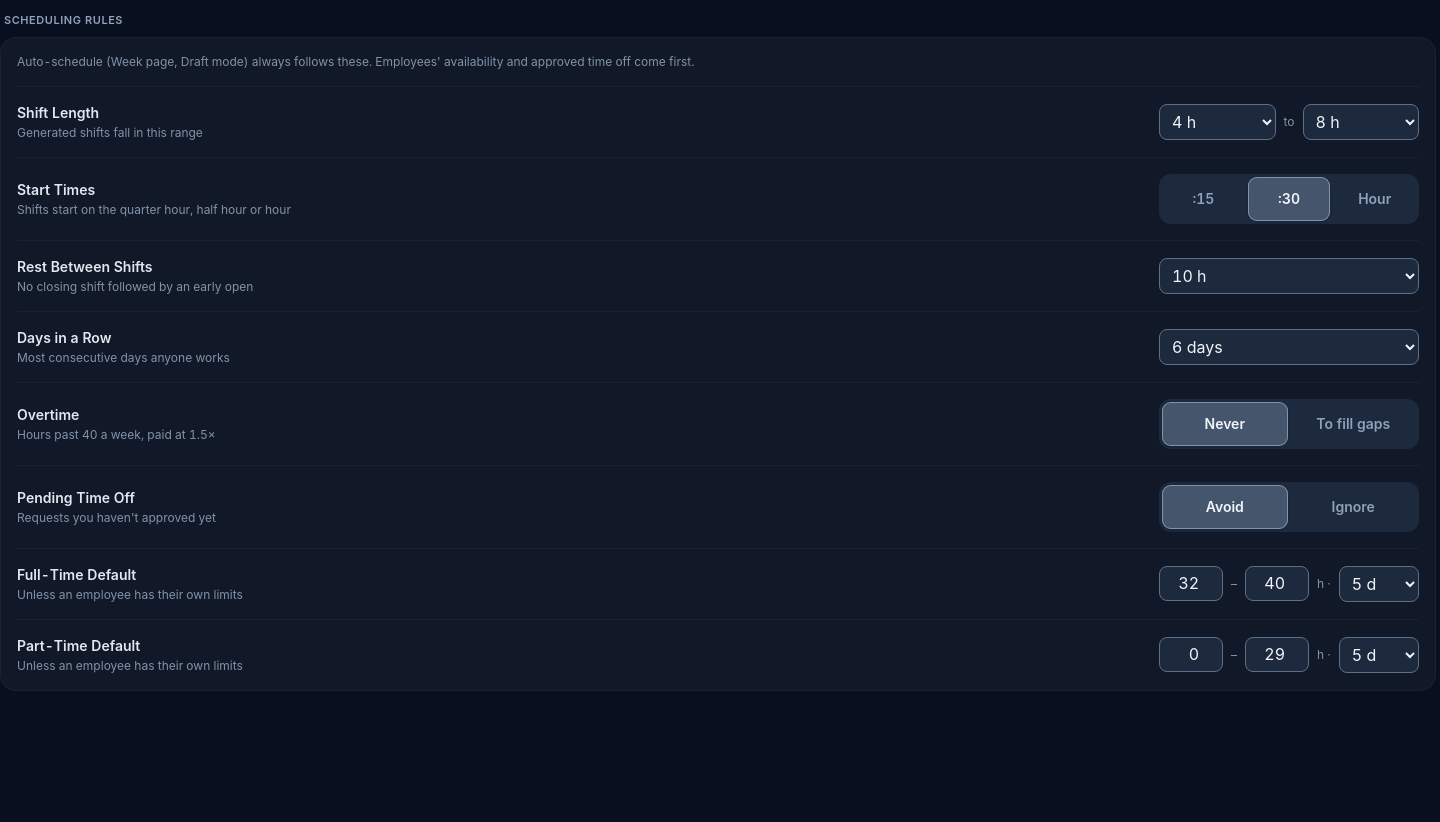
Test: SchedulingRulesSection › saves a changed rule as a patch and reports it
Click the radio button labelled "To fill gaps" at (1353, 424), box [1290,402,1416,446]
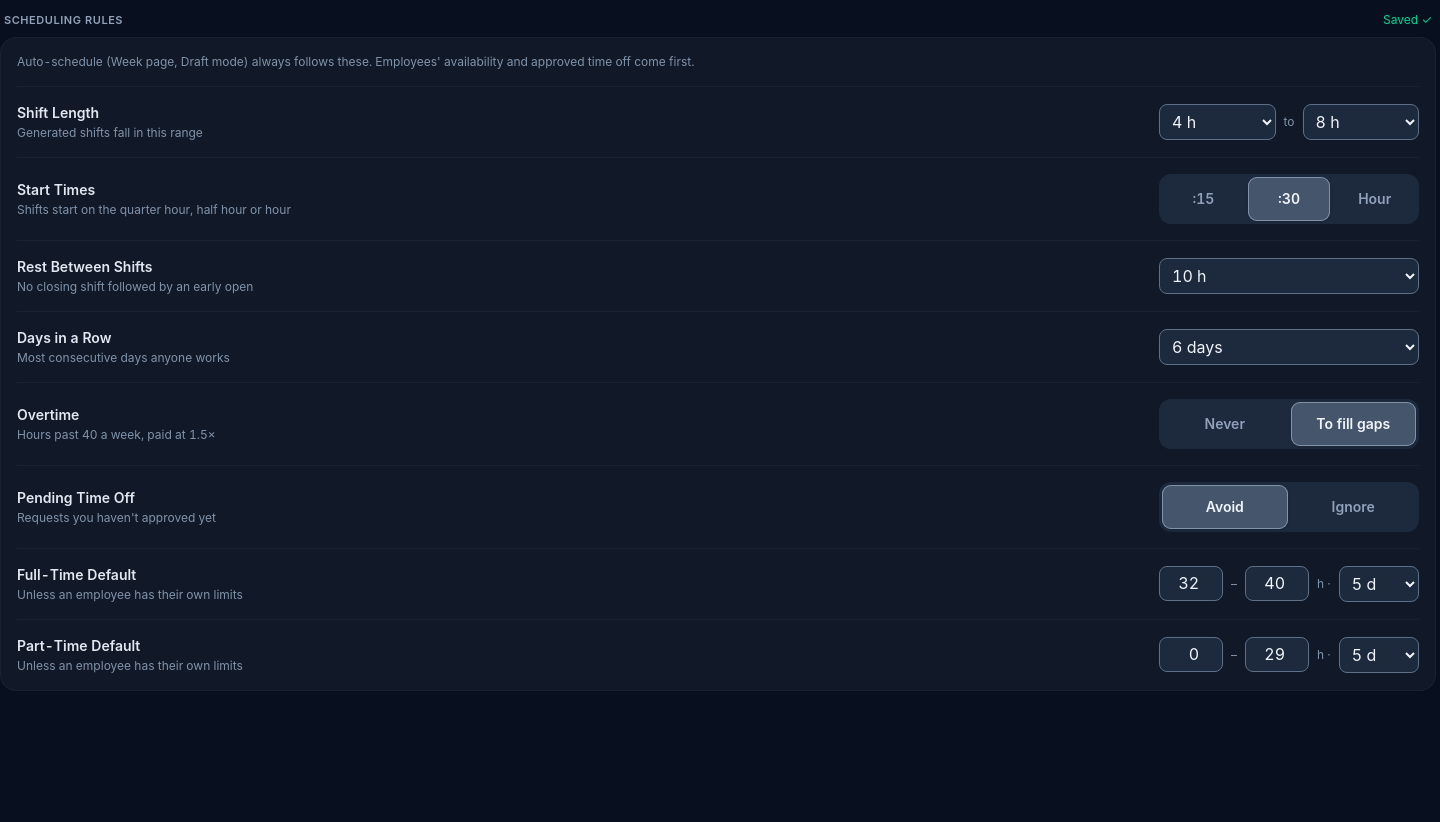
Check: the text "Saved ✓" is shown, box [1383,12,1432,28]
